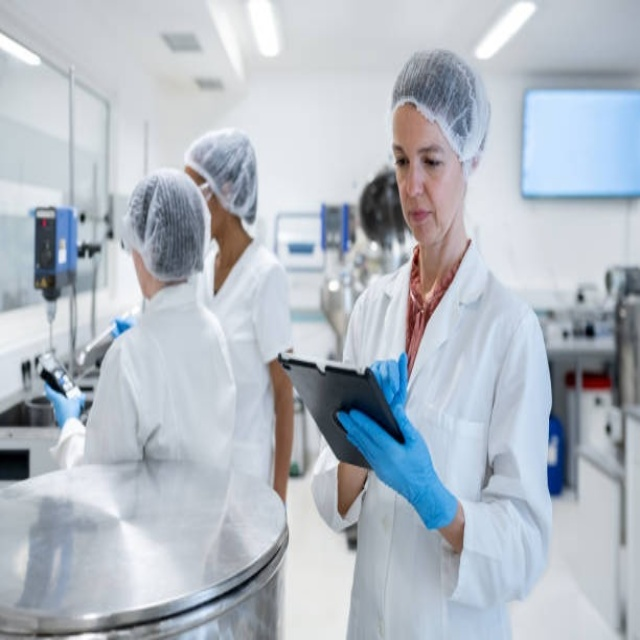Guantes: (332, 397, 457, 535), (368, 350, 414, 402), (41, 375, 89, 422)
Sin_gafas: (392, 135, 445, 179)
Sin_mascara: (404, 198, 437, 237)
